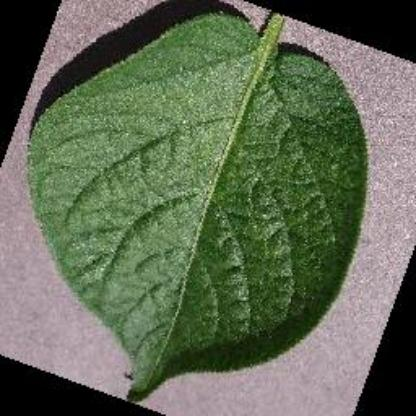Healthy-plant: (31, 9, 370, 403)
